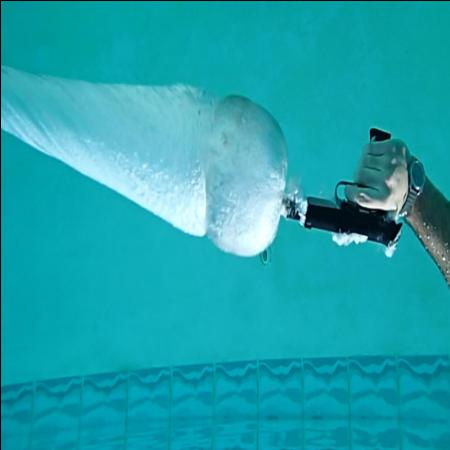Pistol: (282, 125, 400, 249)
